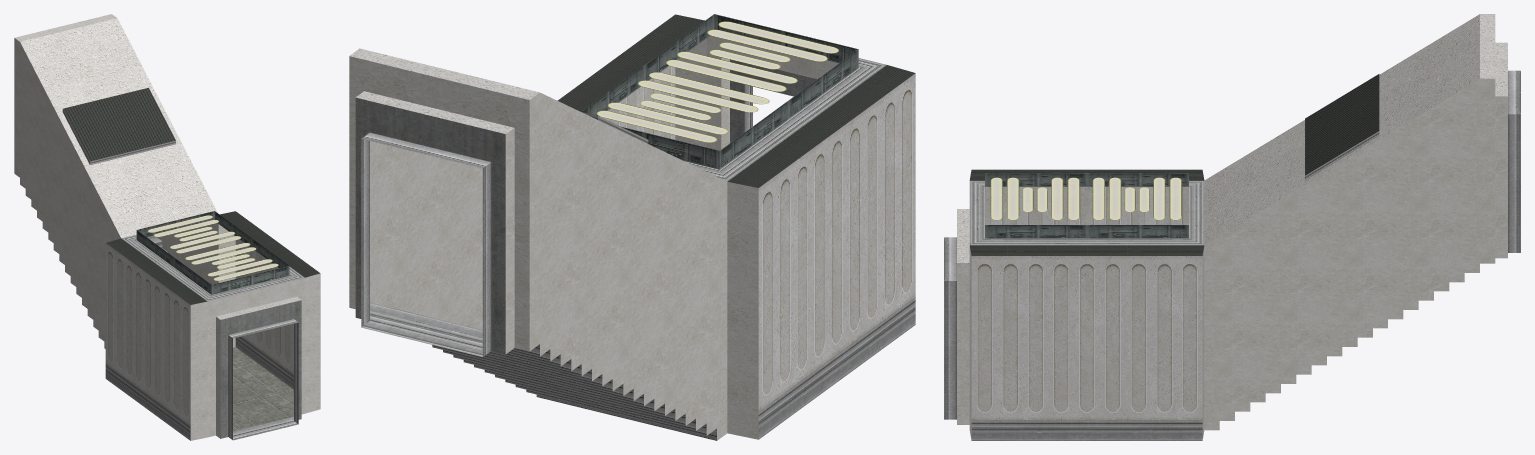
Rendered from ply_corl_house_lg_s02_fp1_r1_foyer_mesh_r1.fbx.
3 views of the same model, side by side, from view 1: azimuth 30°, elevation 25°; view 2: azimuth 150°, elevation 25°; view 3: azimuth 270°, elevation 25° (orthographic). The views are drawn at different scales.
Visible parts, largest first — view 1: mesh_node; view 2: mesh_node; view 3: mesh_node.
Part boxes in pixels (x1,y1,x2,y2): mesh_node: (14,14,320,440); mesh_node: (349,14,915,440); mesh_node: (944,14,1520,440).
Bounding box in the file's own units: 4 × 7.6 × 11.3.
